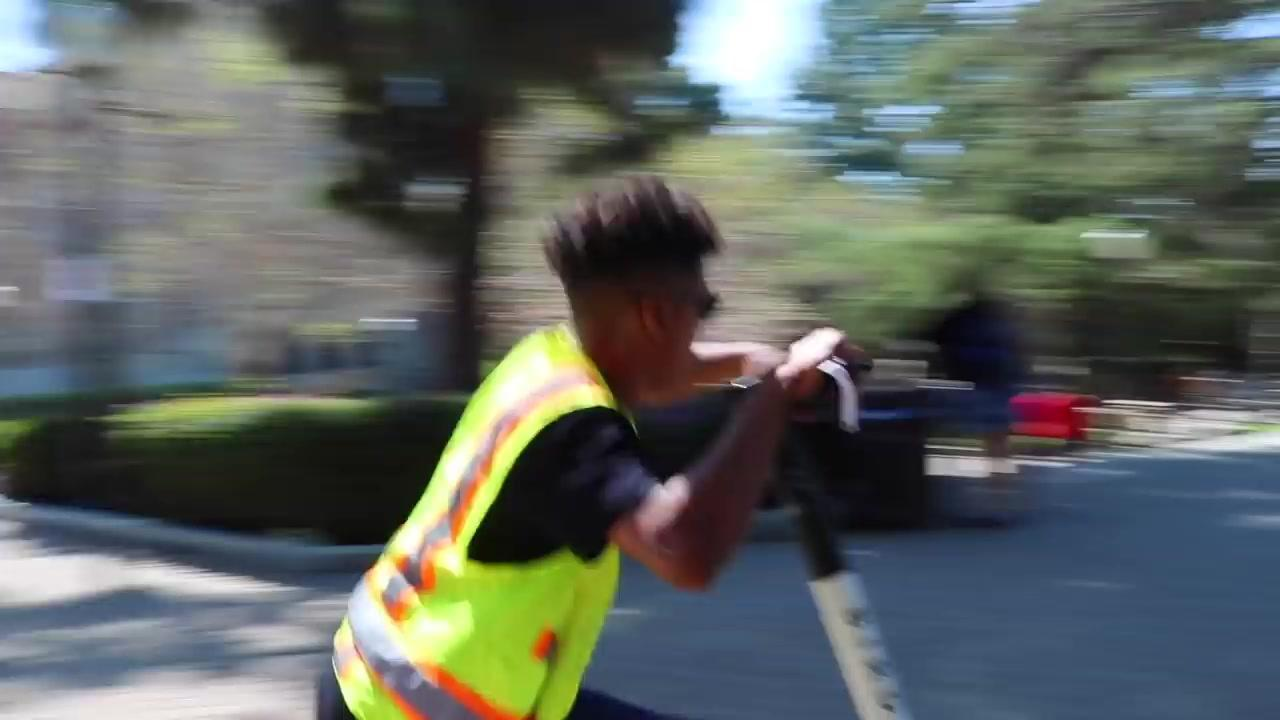vest: (327, 321, 639, 719)
